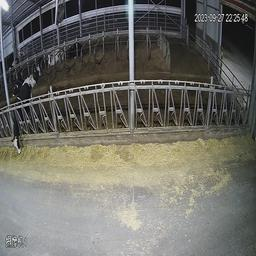cow: (9, 78, 42, 172), (41, 39, 63, 78), (18, 56, 41, 84), (65, 35, 85, 63)
